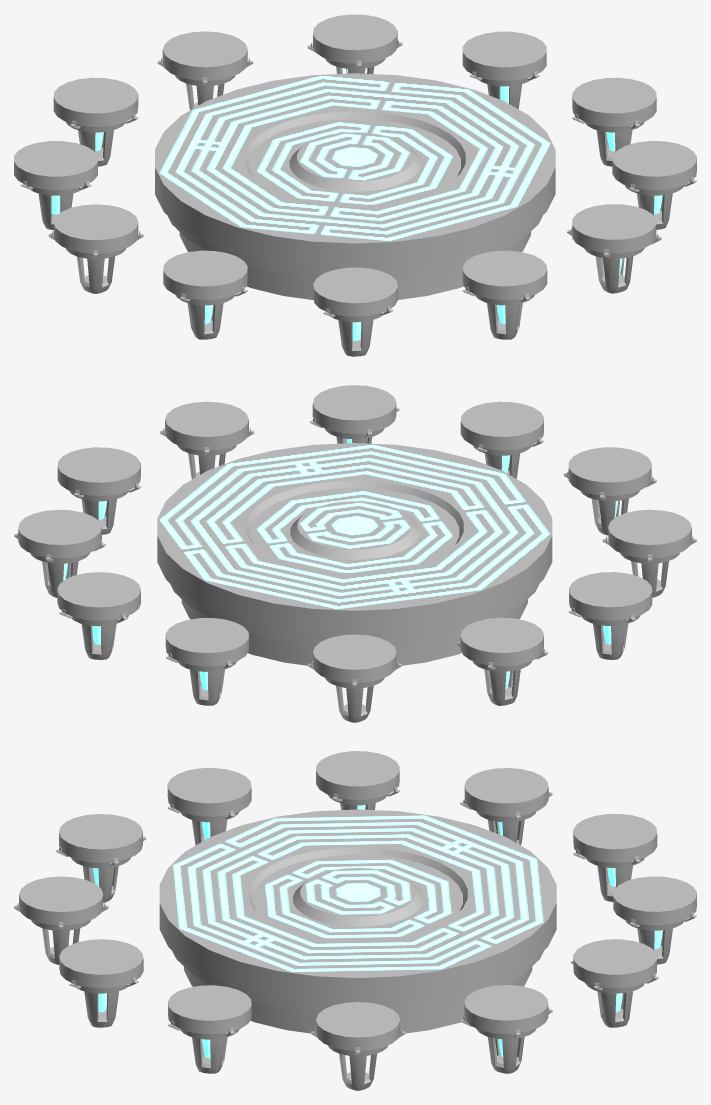
Rendered from Roundtable.fbx.
The picture shows the model from 3 angles, top to bottom: view 1: azimuth 30°, elevation 25°; view 2: azimuth 150°, elevation 25°; view 3: azimuth 270°, elevation 25°; orthographic projection.
Visible parts, largest first — view 1: Cylinder001, Stuhl010, Stuhl009, Stuhl007, Stuhl006, Stuhl008, Stuhl004, Stuhl011, Stuhl, Stuhl005, Stuhl003, Stuhl001 (+1 smaller); view 2: Cylinder001, Stuhl005, Stuhl006, Stuhl002, Stuhl003, Stuhl004, Stuhl008, Stuhl001, Stuhl, Stuhl007, Stuhl009, Stuhl011 (+1 smaller); view 3: Cylinder001, Stuhl001, Stuhl002, Stuhl011, Stuhl, Stuhl010, Stuhl004, Stuhl008, Stuhl003, Stuhl009, Stuhl005, Stuhl007 (+1 smaller).
Boxes of the visible parts, x1,y1,x2,y2 form: Cylinder001: (155, 73, 555, 299); Stuhl010: (567, 204, 661, 293); Stuhl009: (462, 250, 547, 339); Stuhl007: (163, 250, 247, 339); Stuhl006: (48, 204, 143, 293); Stuhl008: (313, 267, 397, 356); Stuhl004: (53, 77, 138, 166); Stuhl011: (612, 141, 696, 229); Stuhl: (572, 77, 656, 166); Stuhl005: (14, 141, 97, 229); Stuhl003: (157, 31, 253, 110); Stuhl001: (462, 31, 546, 109); Cylinder001: (157, 443, 552, 665); Stuhl005: (456, 617, 548, 705); Stuhl006: (568, 572, 652, 659); Stuhl002: (57, 572, 140, 659); Stuhl003: (165, 618, 249, 705); Stuhl004: (308, 634, 401, 722); Stuhl008: (563, 447, 656, 535); Stuhl001: (14, 509, 105, 597); Stuhl: (57, 447, 141, 534); Stuhl007: (602, 509, 696, 597); Stuhl009: (460, 401, 543, 478); Stuhl011: (160, 401, 254, 479); Cylinder001: (159, 809, 556, 1033); Stuhl001: (460, 985, 552, 1073); Stuhl002: (571, 939, 658, 1027); Stuhl011: (168, 985, 251, 1073); Stuhl: (311, 1002, 405, 1090); Stuhl010: (59, 939, 143, 1027); Stuhl004: (573, 814, 657, 901); Stuhl008: (56, 814, 146, 902); Stuhl003: (613, 876, 696, 964); Stuhl009: (14, 876, 108, 964); Stuhl005: (460, 768, 552, 845); Stuhl007: (167, 768, 251, 845).
Size of the model in its own units: 460 by 52.18 by 460.
